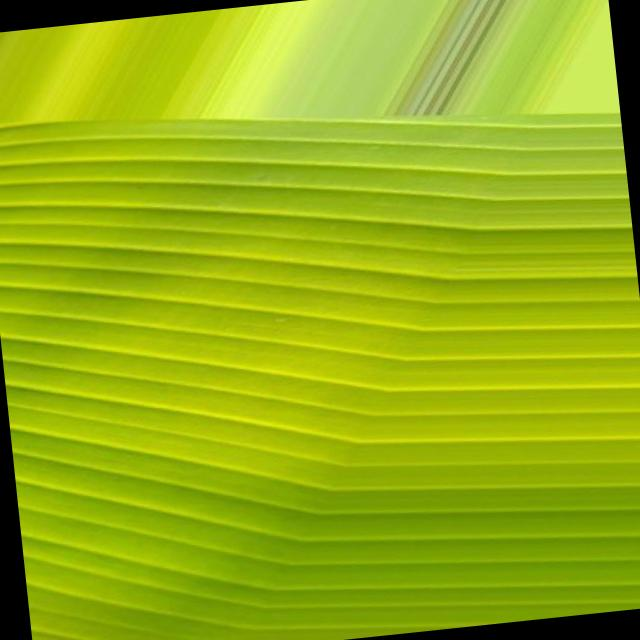Banana_Healthy: (67, 158, 526, 576)
